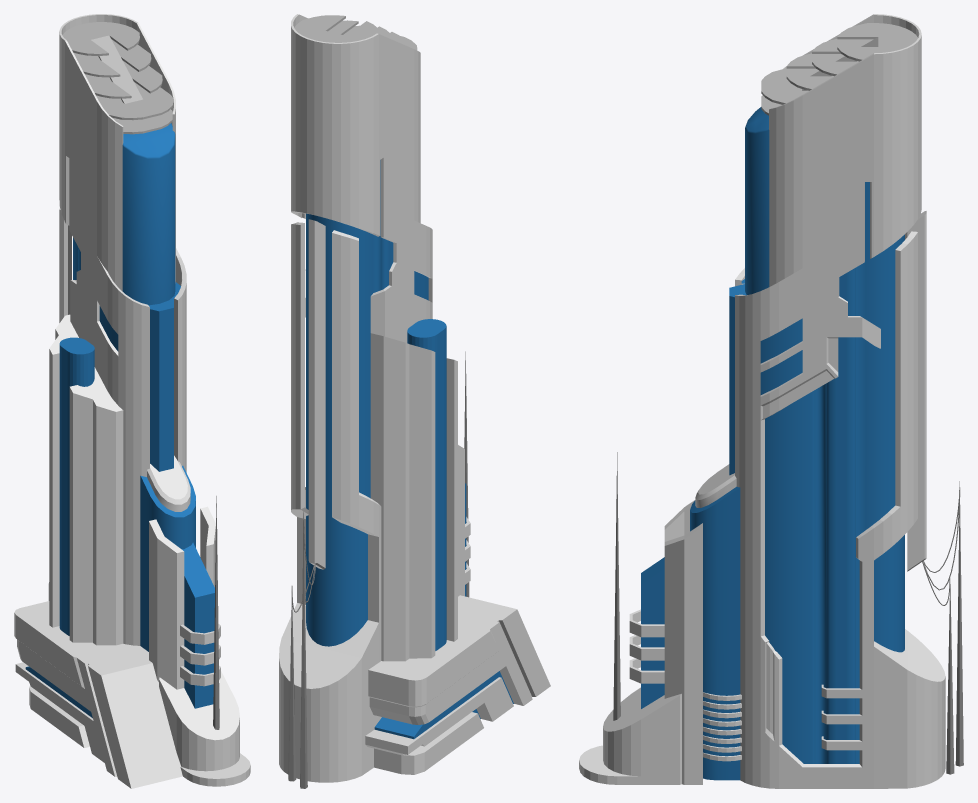
File: Sci-fi.fbx
The picture shows the model from 3 angles, left to right: view 1: azimuth 30°, elevation 25°; view 2: azimuth 150°, elevation 25°; view 3: azimuth 270°, elevation 25°; orthographic projection. The views are drawn at different scales.
Parts seen in each view (by area): view 1: Core.001; view 2: Core.001; view 3: Core.001.
Boxes of the visible parts, x1=… form: Core.001: x1=14, y1=14, x2=250, y2=788; Core.001: x1=279, y1=14, x2=550, y2=788; Core.001: x1=579, y1=14, x2=963, y2=788.
Bounding box in the file's own units: 325 × 1704 × 809.
